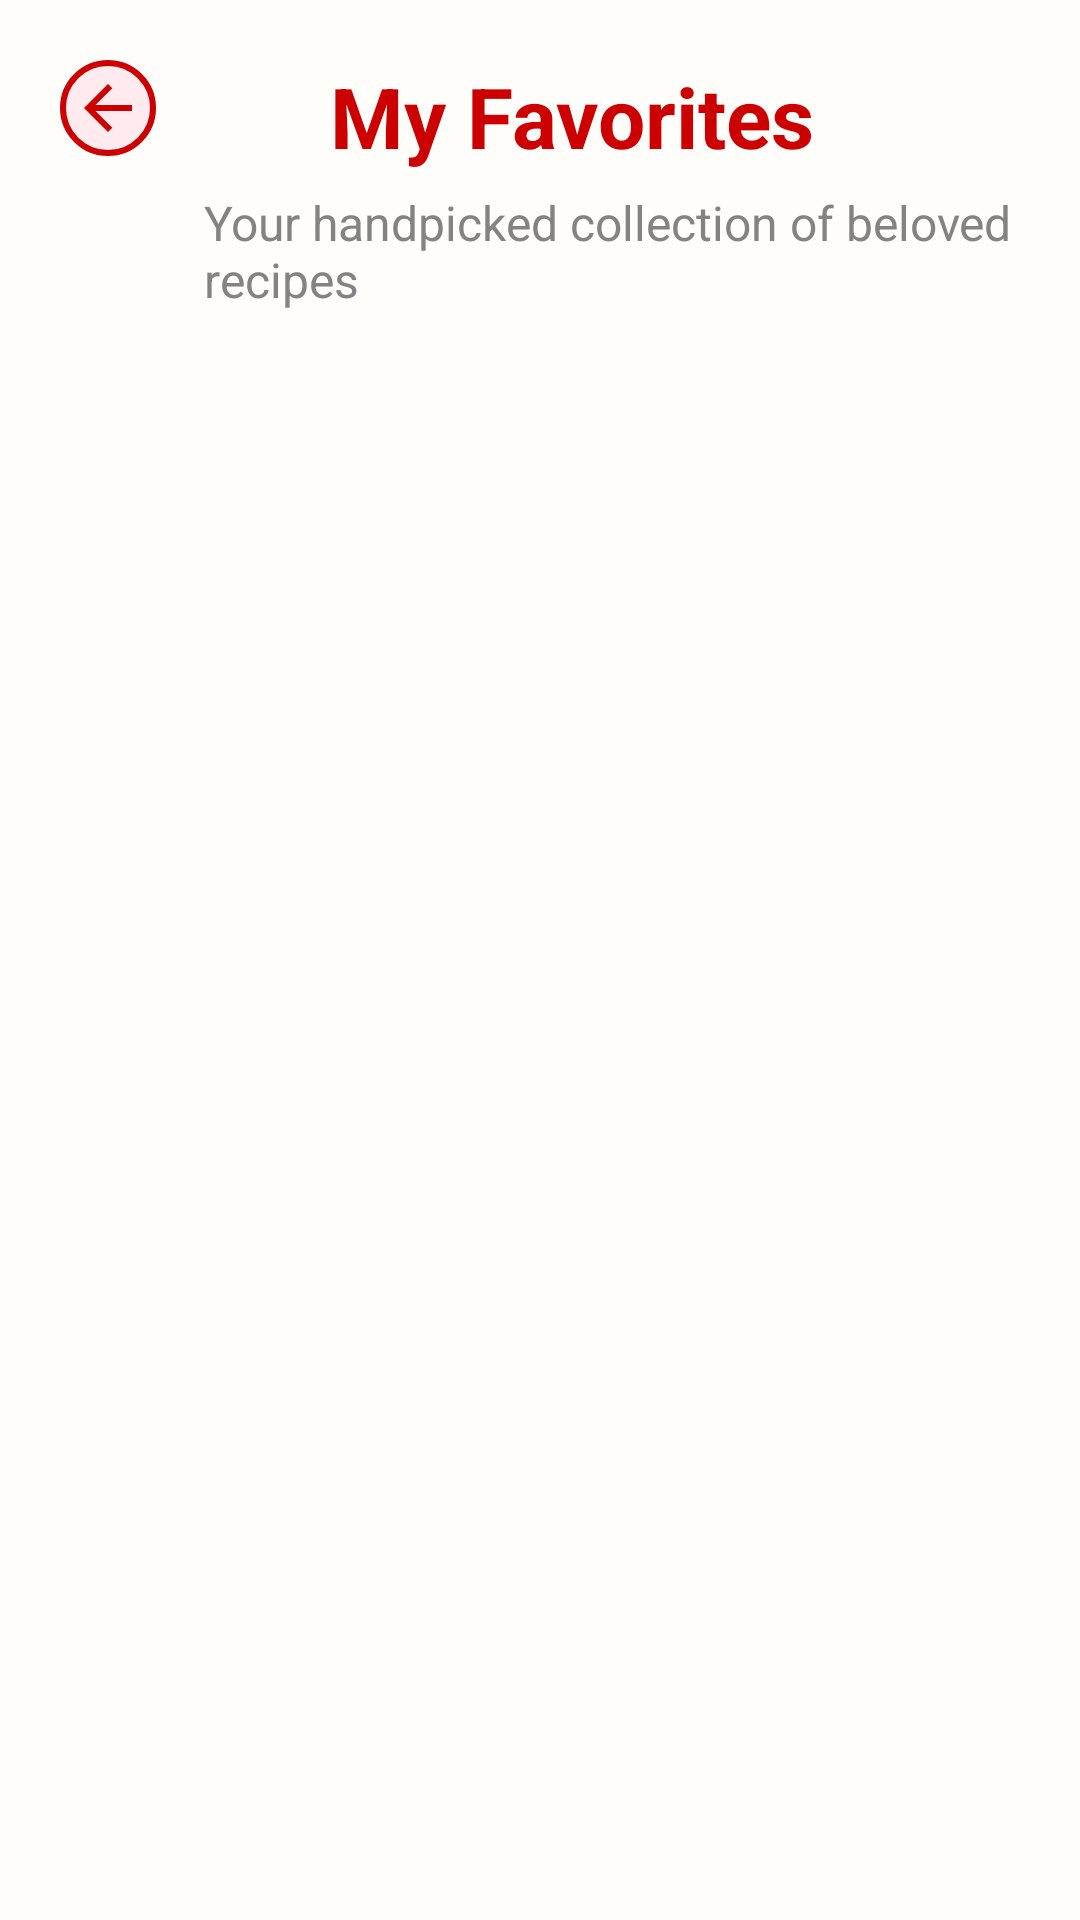

Point at icon controls on the screen. Image size 1080 x 1920, points as point (x, y).
Back Button: point (108, 108)
